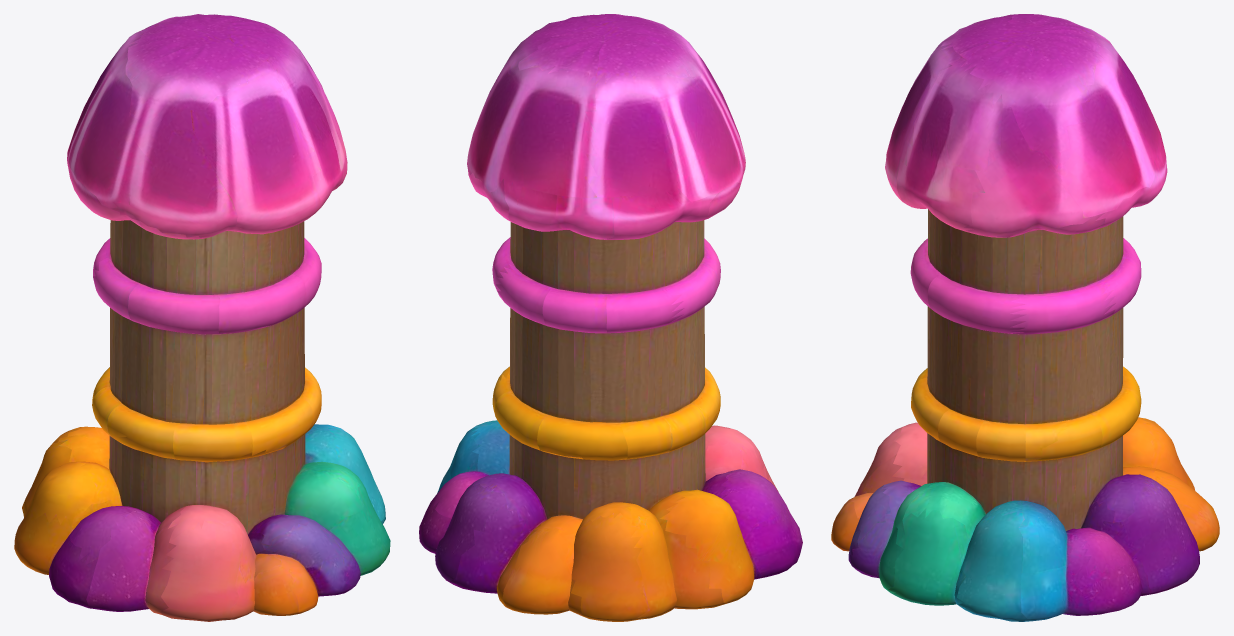
File: candy-post.glb
3 views of the same model, side by side, from view 1: azimuth 30°, elevation 25°; view 2: azimuth 150°, elevation 25°; view 3: azimuth 270°, elevation 25° (orthographic).
Bounding box in the file's own units: 0.6895 × 1 × 0.6934.
Materials: 1 (1 with a texture image).
